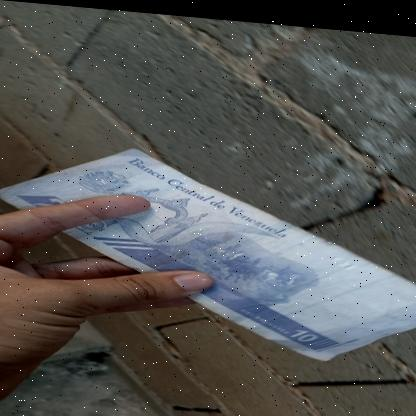ten-back-vef: (0, 138, 416, 363)
